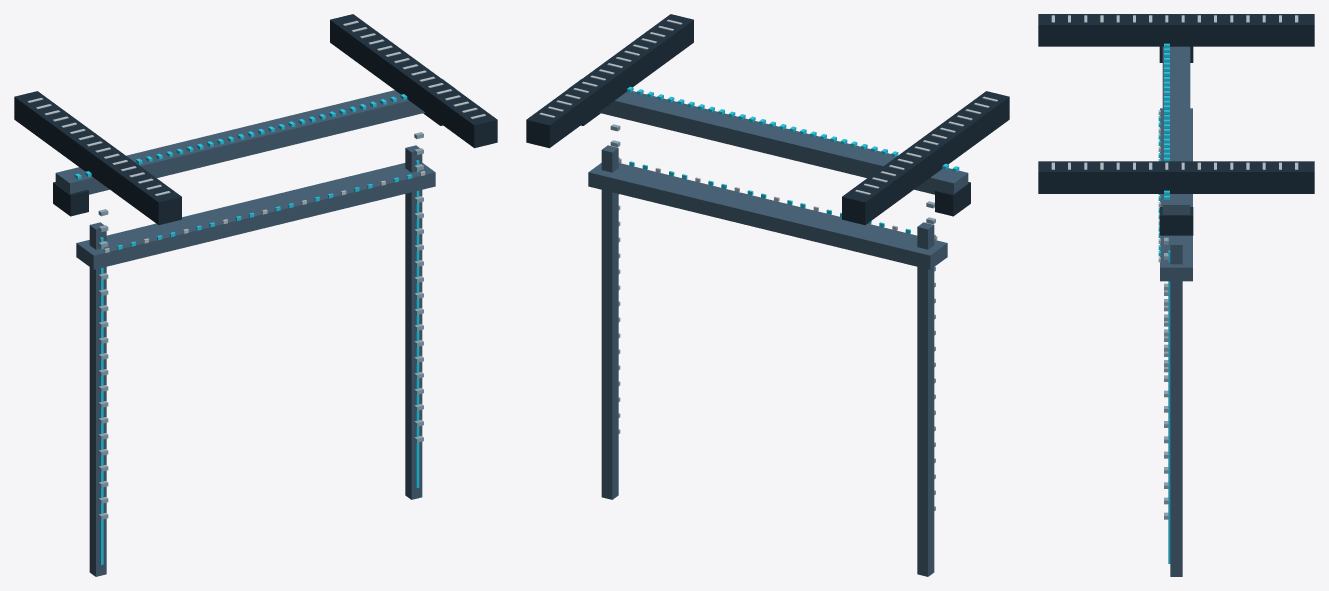
File: 14_L79_SixAxisHybridBondingGantry.fbx
3 views of the same model, side by side, from view 1: azimuth 30°, elevation 25°; view 2: azimuth 150°, elevation 25°; view 3: azimuth 270°, elevation 25° (orthographic). The views are drawn at different scales.
Parts seen in each view (by area): view 1: SixAxisHybridBondingGantry, SixAxisHybridBondingGantry_Part_0104, SixAxisHybridBondingGantry_Part_0142; view 2: SixAxisHybridBondingGantry, SixAxisHybridBondingGantry_Part_0104, SixAxisHybridBondingGantry_Part_0142; view 3: SixAxisHybridBondingGantry, SixAxisHybridBondingGantry_Part_0104, SixAxisHybridBondingGantry_Part_0143.
Part boxes in pixels (x1=…): SixAxisHybridBondingGantry: x1=14, y1=14, x2=497, y2=576; SixAxisHybridBondingGantry_Part_0104: x1=55, y1=79, x2=455, y2=194; SixAxisHybridBondingGantry_Part_0142: x1=53, y1=182, x2=88, y2=216; SixAxisHybridBondingGantry: x1=526, y1=14, x2=1009, y2=576; SixAxisHybridBondingGantry_Part_0104: x1=568, y1=79, x2=968, y2=194; SixAxisHybridBondingGantry_Part_0142: x1=935, y1=182, x2=970, y2=216; SixAxisHybridBondingGantry: x1=1038, y1=14, x2=1314, y2=576; SixAxisHybridBondingGantry_Part_0104: x1=1162, y1=46, x2=1190, y2=214; SixAxisHybridBondingGantry_Part_0143: x1=1159, y1=207, x2=1193, y2=235.
Bounding box in the file's own units: 714 × 750 × 460.
